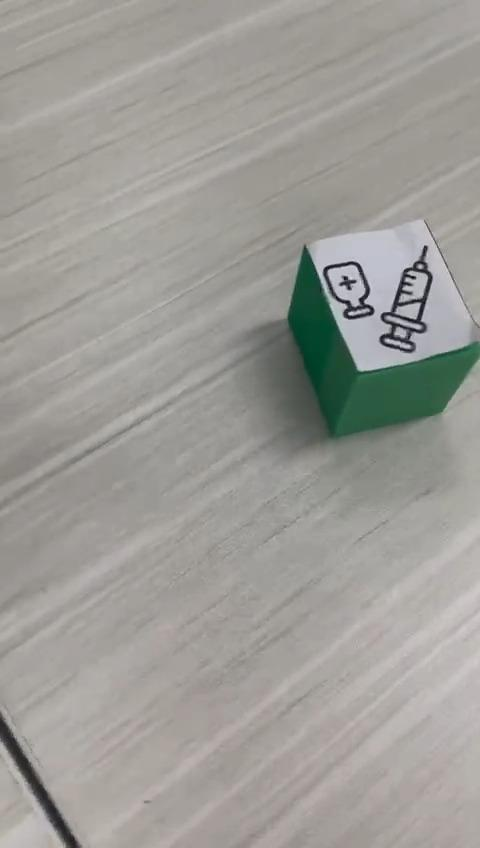antiseptic cream: (286, 216, 478, 438)
